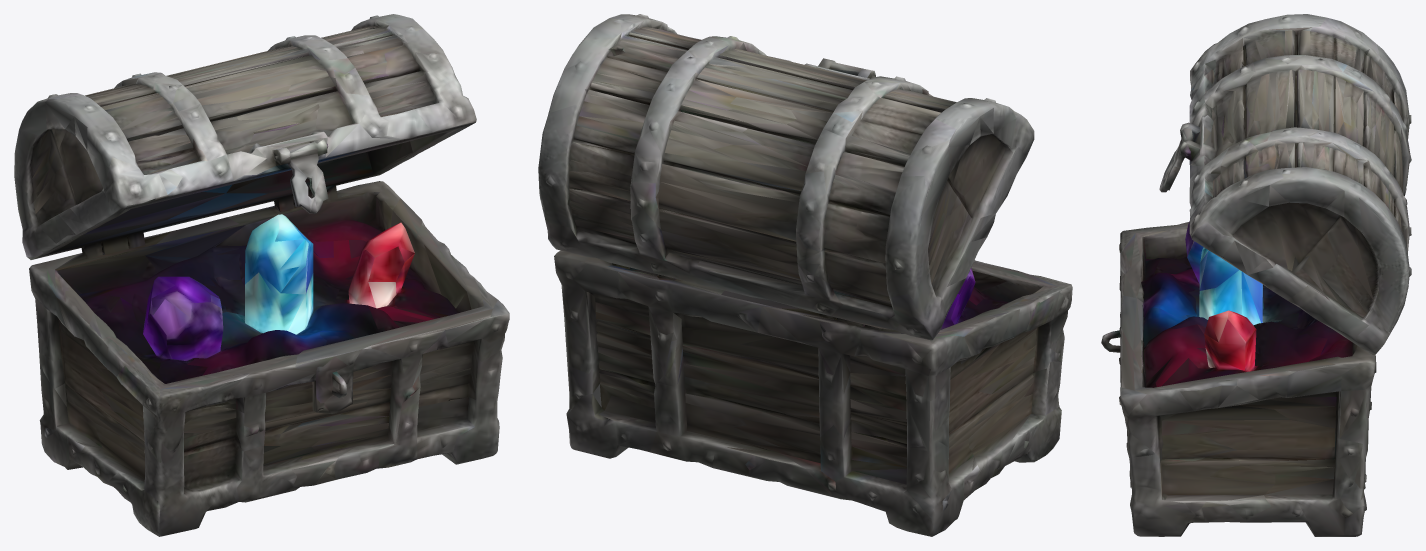
Rendered from item_sandik1.glb.
3 views of the same model, side by side, from view 1: azimuth 30°, elevation 25°; view 2: azimuth 150°, elevation 25°; view 3: azimuth 270°, elevation 25° (orthographic). The views are drawn at different scales.
Parts seen in each view (by area): view 1: tripo_node_2f59be80-0baf-4119-beba-cdaf8333b138; view 2: tripo_node_2f59be80-0baf-4119-beba-cdaf8333b138; view 3: tripo_node_2f59be80-0baf-4119-beba-cdaf8333b138.
Boxes of the visible parts, x1=… form: tripo_node_2f59be80-0baf-4119-beba-cdaf8333b138: x1=14, y1=14, x2=509, y2=536; tripo_node_2f59be80-0baf-4119-beba-cdaf8333b138: x1=538, y1=14, x2=1072, y2=536; tripo_node_2f59be80-0baf-4119-beba-cdaf8333b138: x1=1101, y1=14, x2=1411, y2=536.
Bounding box in the file's own units: 0.983 × 0.9777 × 0.7569.
1 material, 1 textured.
